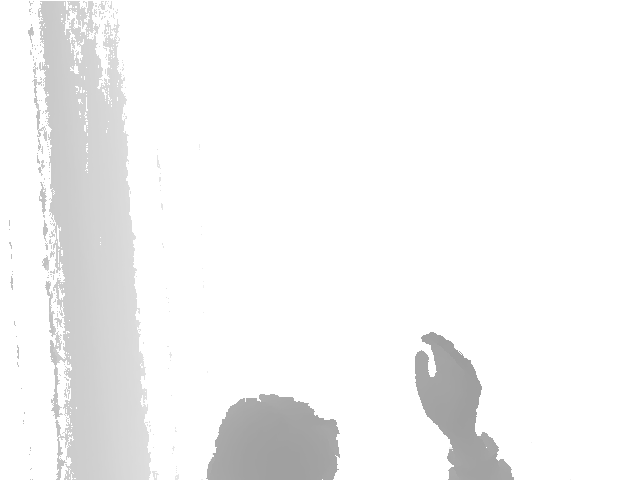hand: (414, 331, 482, 437)
head: (207, 393, 341, 480)
person: (206, 332, 512, 480)
